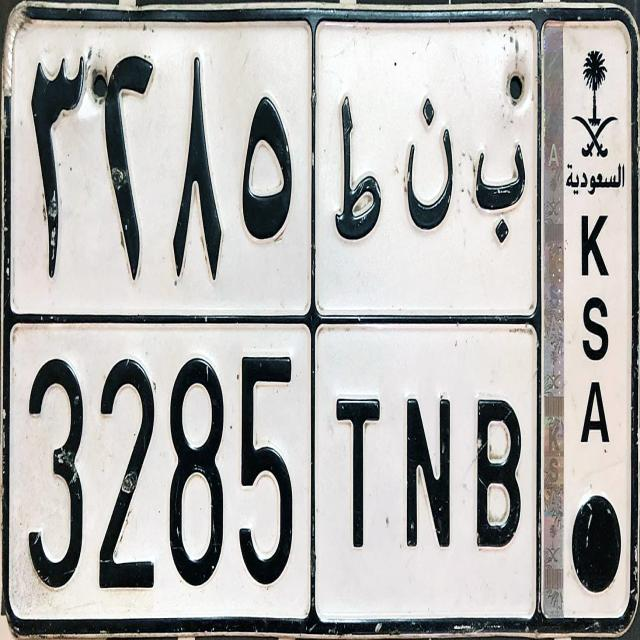license_plate: (1, 312, 544, 631)
